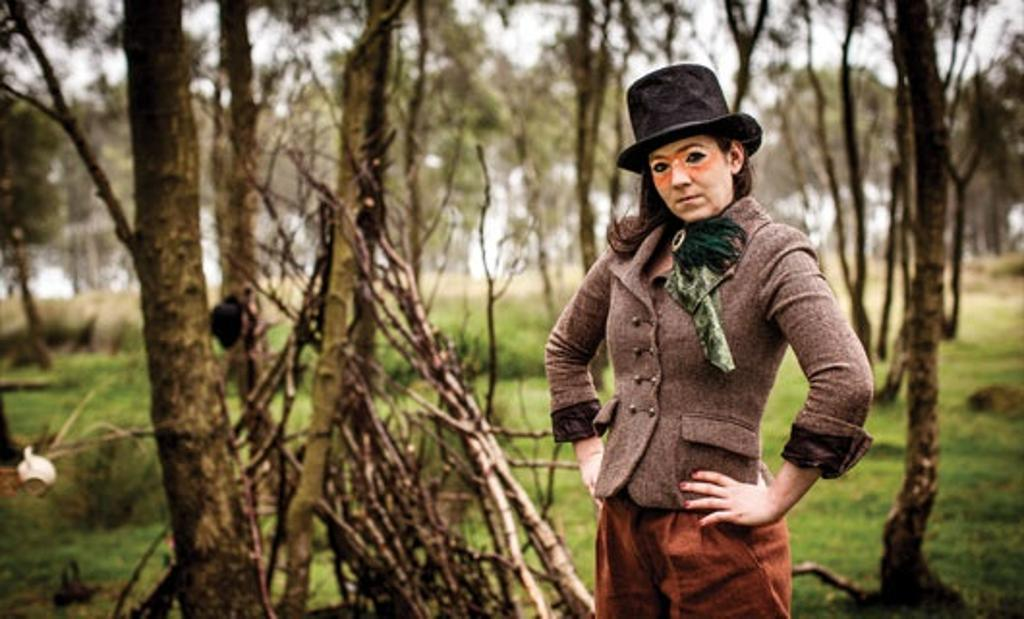face: (657, 113, 727, 215)
